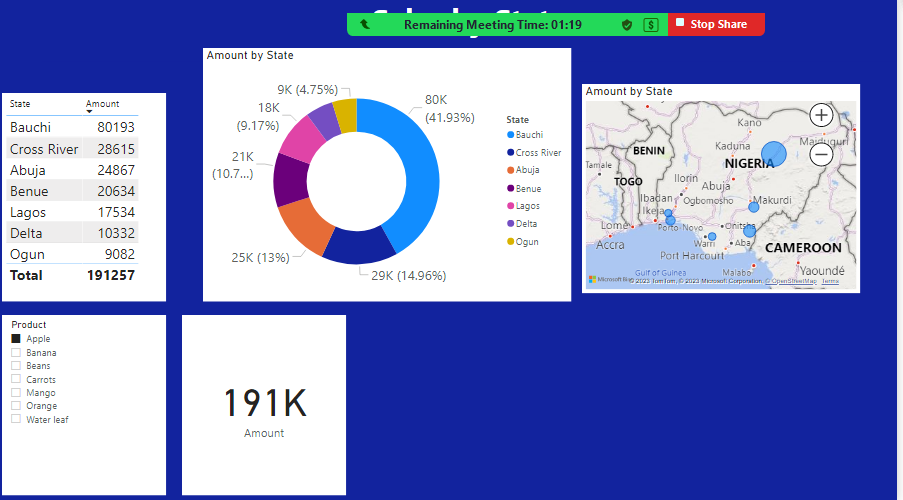

Layout of this report page (visuals, bound fields, positions):
{"tool":"powerbi","page":{"name":"sales by state","canvas":[1280,720],"ordinal":0},"visuals":[{"type":"textbox","box":[67.2,0,1212.8,94.1],"z":0},{"type":"tableEx","fields":{"Values":["Table1.State","Sum(Table1.Amount)"]},"box":[9.7,139.5,232.9,296],"z":1000},{"type":"map","fields":{"Category":["Table1.State"],"Size":["Sum(Table1.Amount)"]},"box":[833.6,126.4,394.8,296.8],"z":2000},{"type":"card","fields":{"Values":["Sum(Table1.Amount)"]},"box":[265.5,454,232.7,255.7],"z":3000},{"type":"donutChart","fields":{"Category":["Table1.State"],"Y":["Sum(Table1.Amount)"]},"box":[296,75.2,522.9,360.3],"z":4000},{"type":"slicer","fields":{"Values":["Table1.Product"]},"box":[10,454,233,256],"z":5000}]}

Visuals, with their boxes in screenshot pixels (x1, y1, x2, y2):
textbox: 38 0 901 58
tableEx - Table1.State x Sum(Table1.Amount): 0 90 163 300
map - Table1.State x Sum(Table1.Amount): 584 80 864 292
card - Sum(Table1.Amount): 179 314 345 495
donutChart - Table1.State x Sum(Table1.Amount): 201 44 573 300
slicer - Table1.Product: 0 314 163 496
